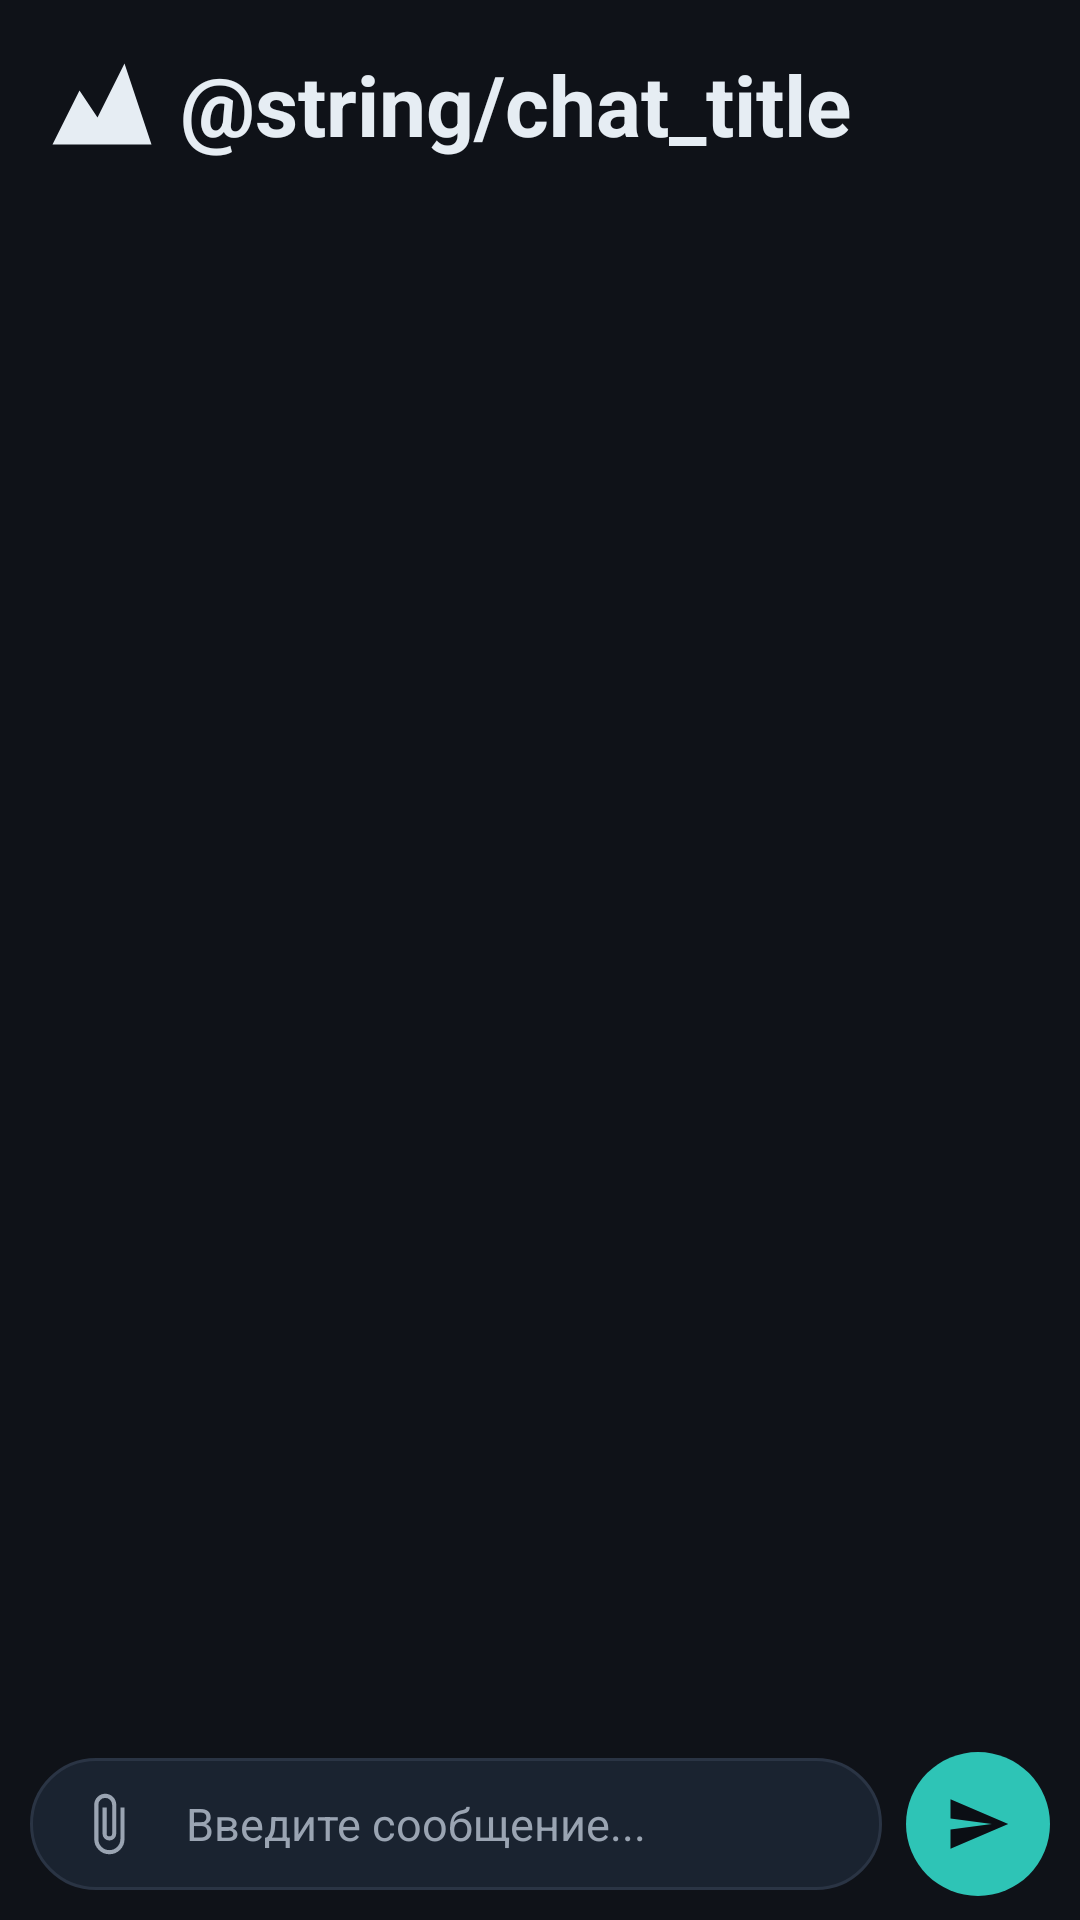

Icon click points for this 1080*1920 phone screenshot, format [x,y]:
attach: [109,1824]
send: [978,1824]
